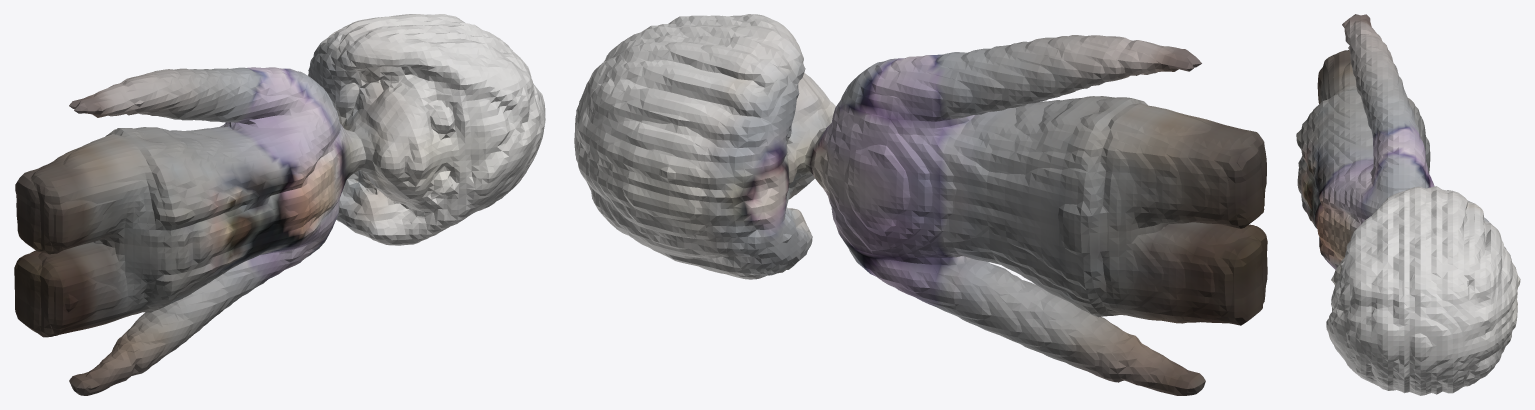
3 renders of one model, left to right at view 1: azimuth 30°, elevation 25°; view 2: azimuth 150°, elevation 25°; view 3: azimuth 270°, elevation 25°, orthographic. The views are drawn at different scales.
Parts seen in each view (by area): view 1: world; view 2: world; view 3: world.
Part boxes in pixels (x1,y1,x2,y2): world: (14, 14, 545, 395); world: (574, 14, 1267, 395); world: (1296, 14, 1520, 395).
Bounding box in the file's own units: 0.9346 × 0.4941 × 0.3768.
